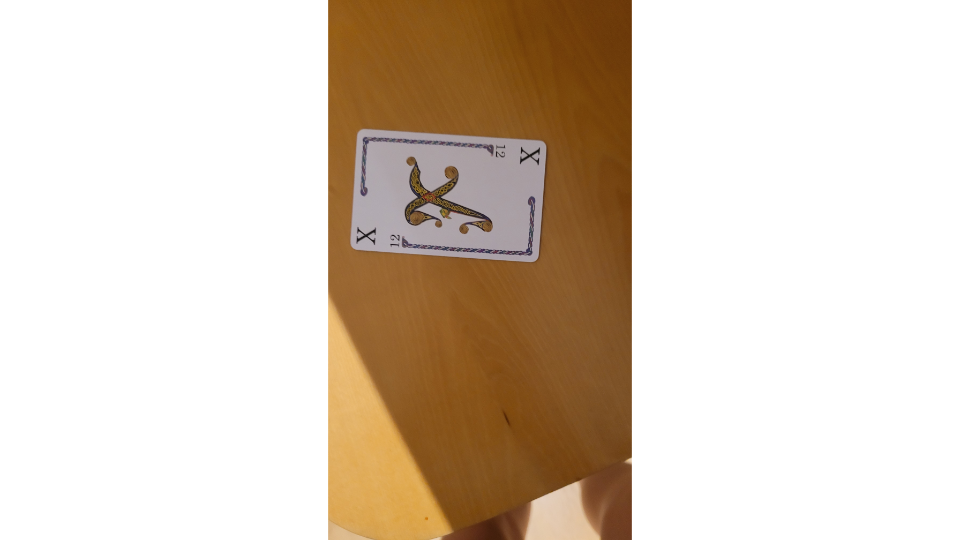X: (348, 126, 550, 264)
